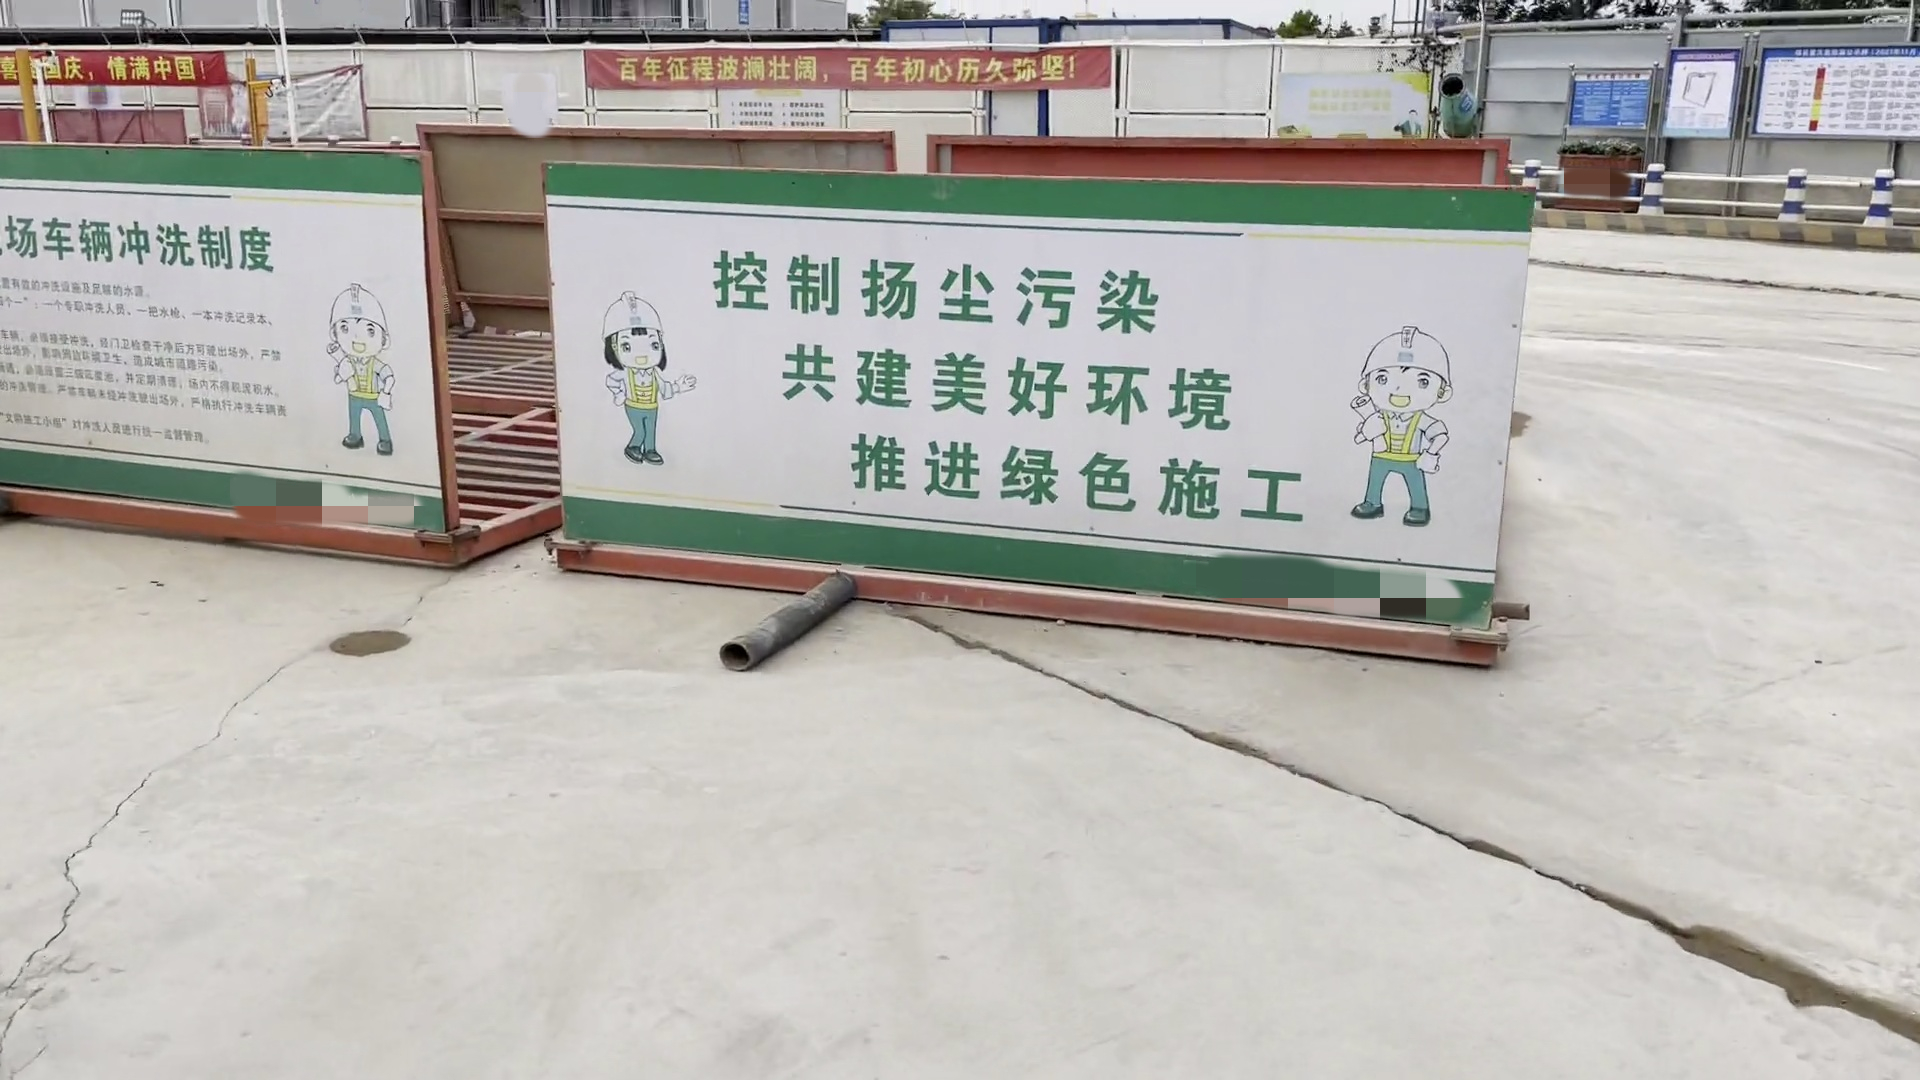slogan: (585, 224, 1473, 539), (18, 179, 417, 465), (585, 44, 1125, 88), (11, 49, 233, 87)
